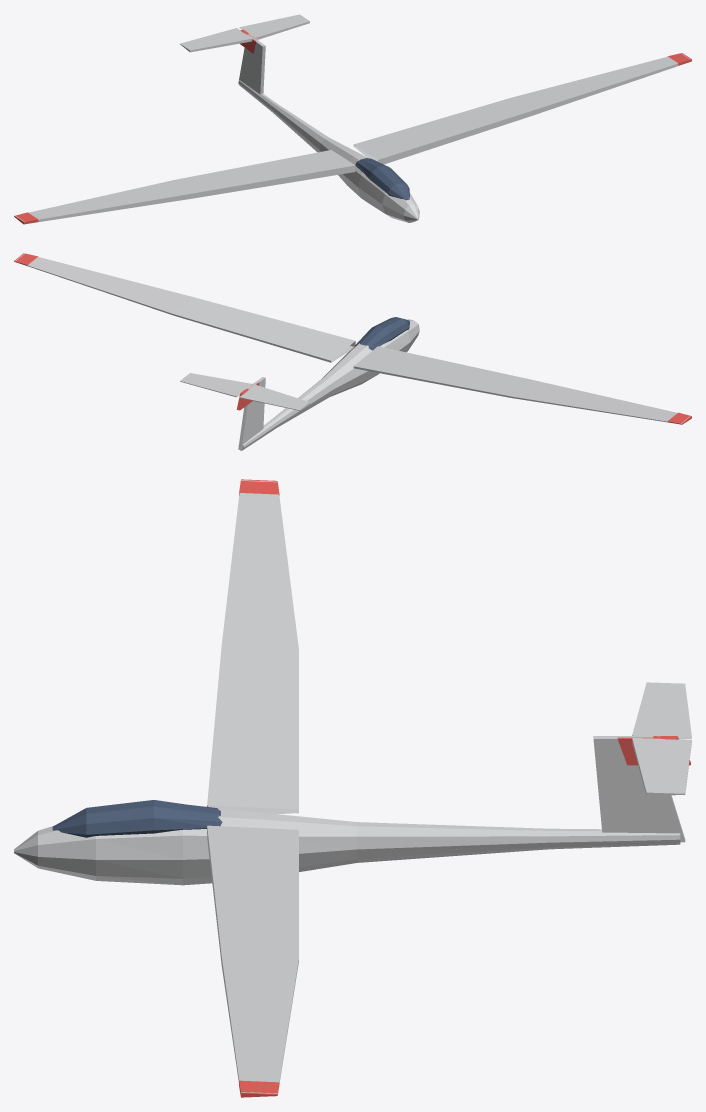
File: glider.gltf
The picture shows the model from 3 angles, top to bottom: view 1: azimuth 30°, elevation 25°; view 2: azimuth 150°, elevation 25°; view 3: azimuth 270°, elevation 25°; orthographic projection. The views are drawn at different scales.
Visible parts, largest first — view 1: glider; view 2: glider; view 3: glider.
Part boxes in pixels (x1,y1,x2,y2): glider: (14,14,691,224); glider: (14,253,691,450); glider: (14,479,691,1097).
Bounding box in the file's own units: 15.04 × 1.65 × 7.02.
